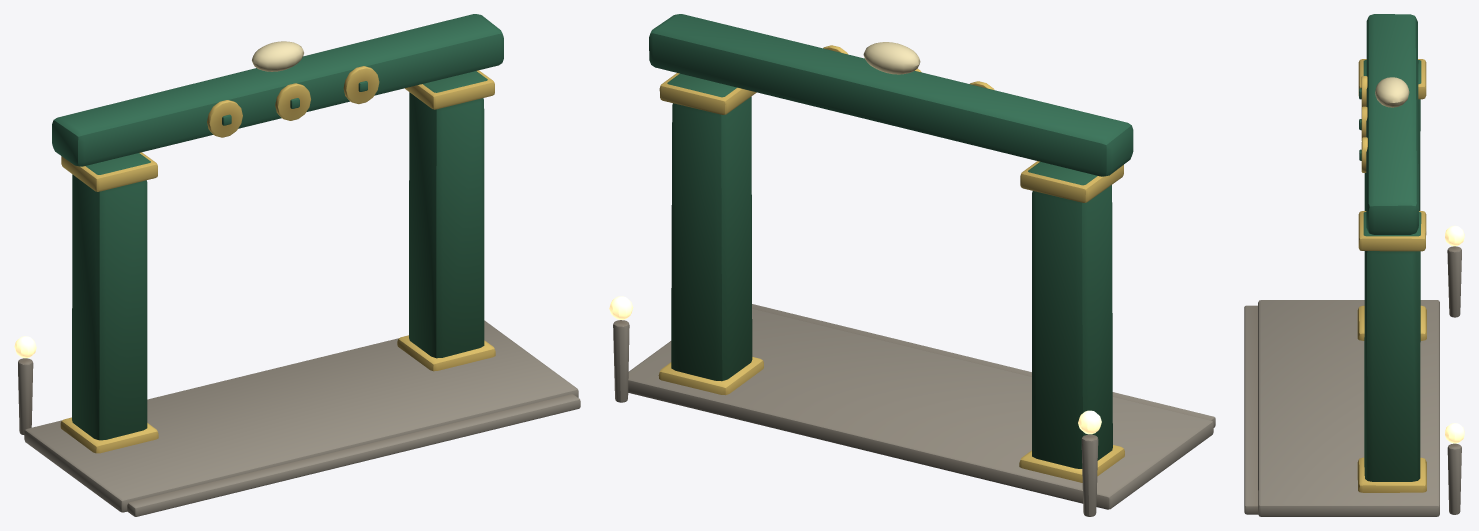
The picture shows the model from 3 angles, left to right: view 1: azimuth 30°, elevation 25°; view 2: azimuth 150°, elevation 25°; view 3: azimuth 270°, elevation 25°; orthographic projection. The views are drawn at different scales.
Parts seen in each view (by area): view 1: gate_d94f576b; view 2: gate_d94f576b; view 3: gate_d94f576b.
Boxes of the visible parts, <box> form: gate_d94f576b: <box>14,14,580,516</box>; gate_d94f576b: <box>609,14,1215,516</box>; gate_d94f576b: <box>1244,14,1464,516</box>.
Size of the model in its own units: 5.65 by 4.25 by 2.55.
